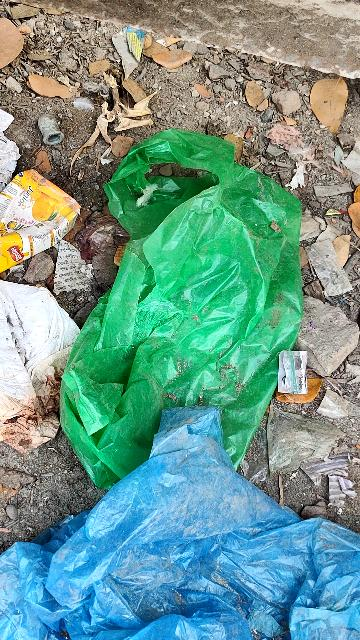polythene: (56, 151, 322, 505), (4, 510, 360, 633)
